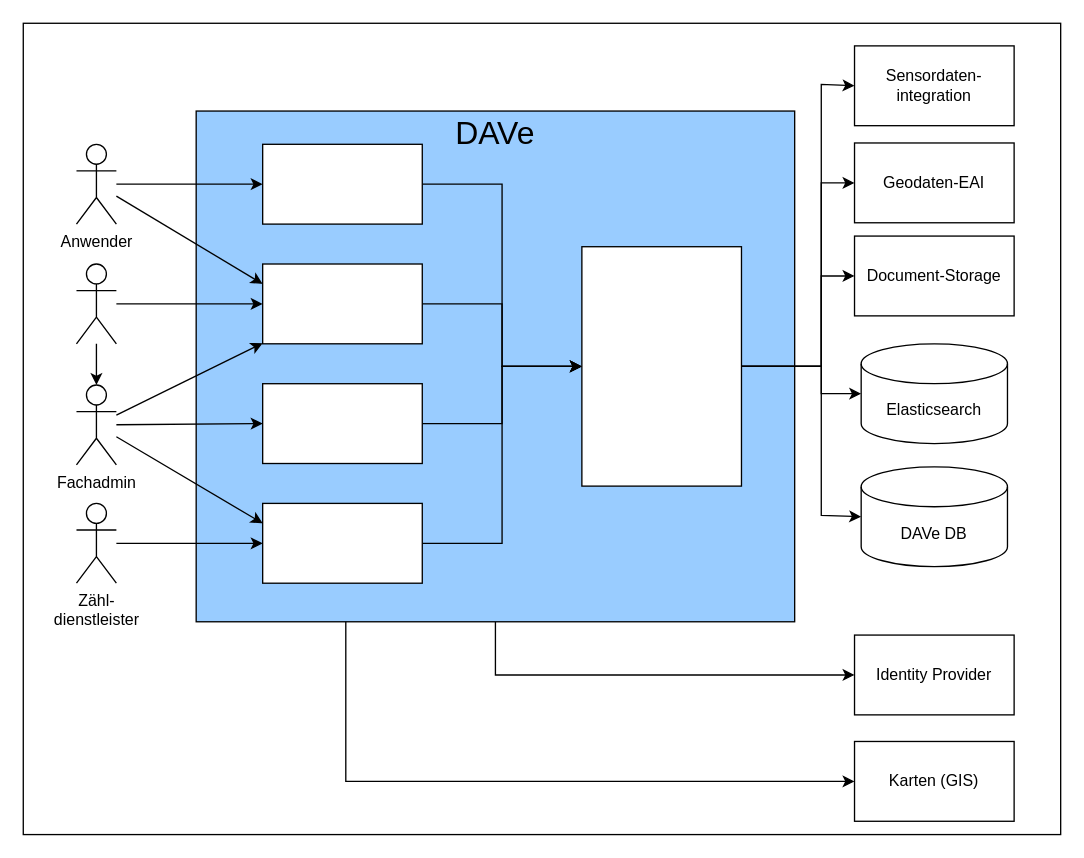
Some shapes in this 1084 by 858 pixel diagram are drawn without their labels. Each missing label, with the centre of its shape:
"dave- selfserviceportal" belongs at point 341,542.
"dave-adminportal" belongs at point 341,423.
"dave-backend" belongs at point 661,365.
"dave-eai" belongs at point 341,183.
"dave-frontend" belongs at point 341,303.
"Poweruser" belongs at point 95,303.
